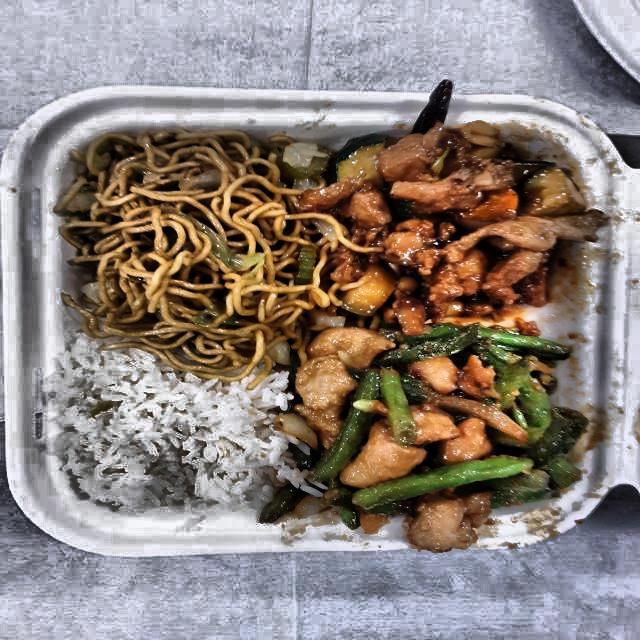Food: (280, 311, 593, 539), (53, 122, 332, 352), (316, 117, 592, 326), (62, 354, 281, 514)
